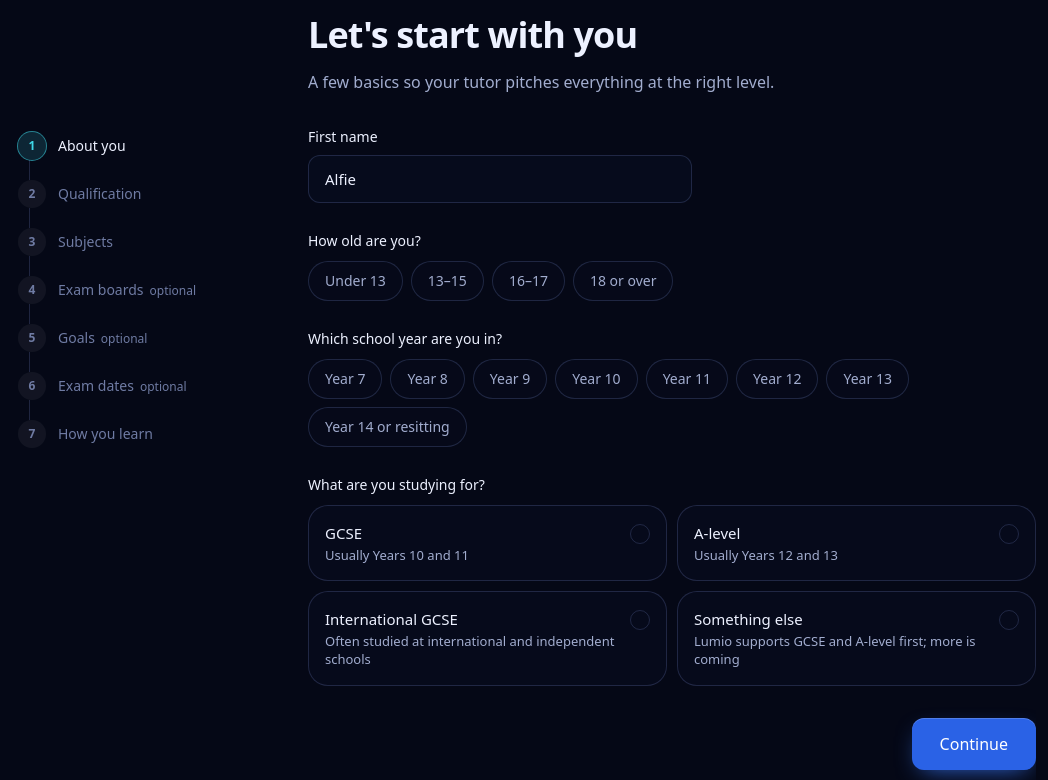
Test case: StudentOnboarding › explains the parental-consent step for under-13s
This screenshot has width=1048, height=780.
Click the radio button labelled "Under 13": [355, 281] box [308,261,403,301]
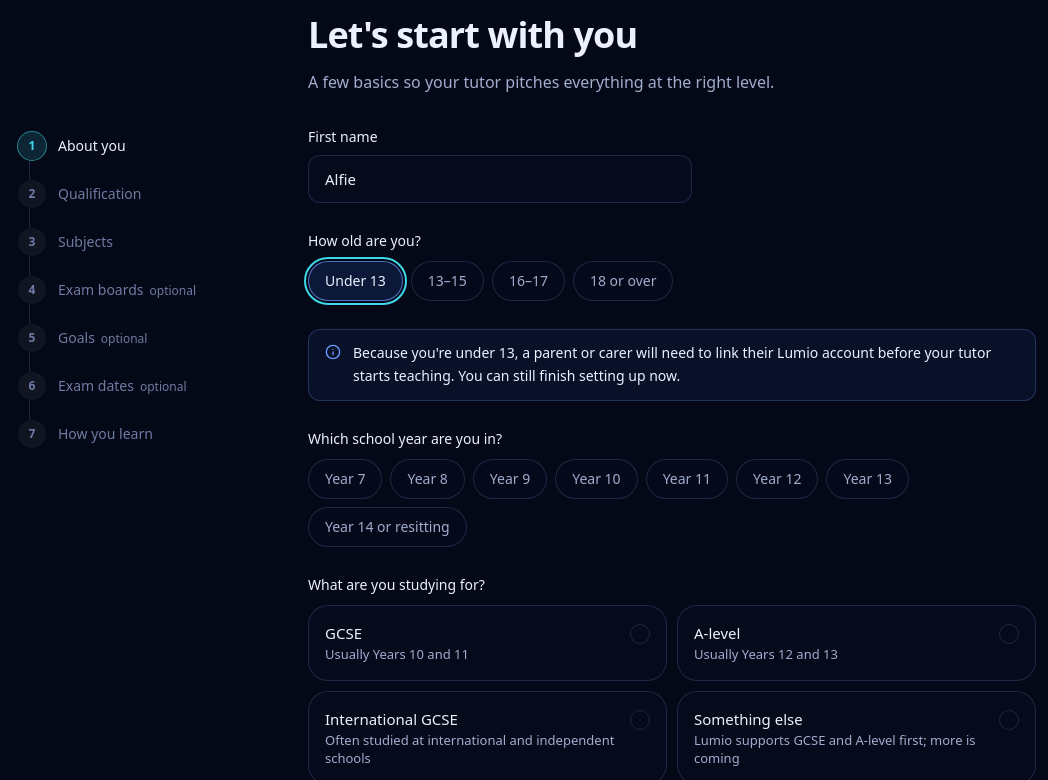
Expected: the text "parent or carer will need to link" is shown, [353,343,991,385]
